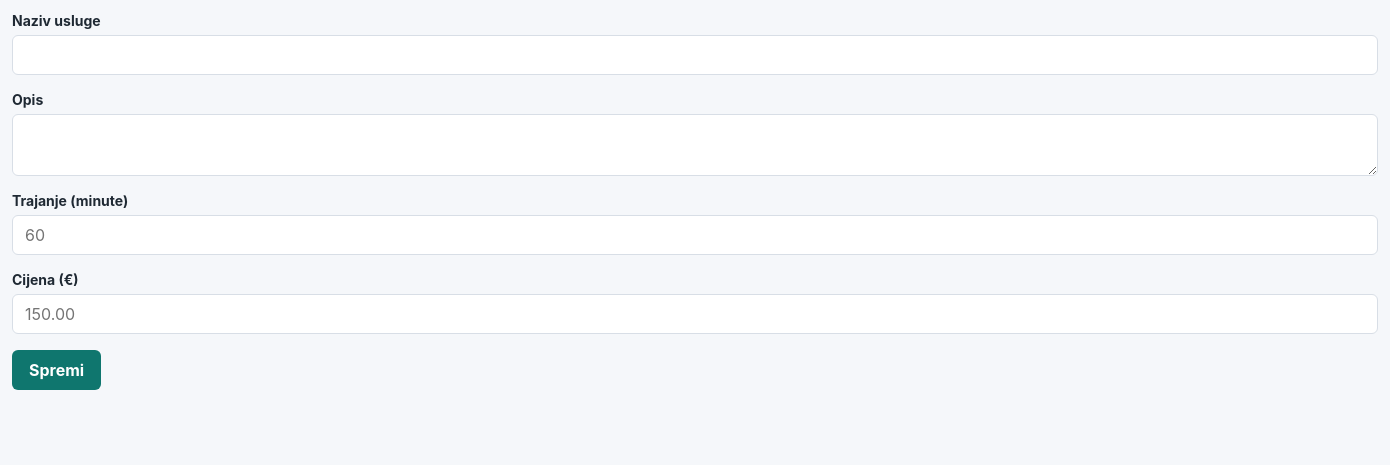
it: ServiceForm › rejects non-positive duration with validation error
Type "Servis" into the field labelled "Naziv usluge". click: x=695, y=55
box: [12, 35, 1378, 75]
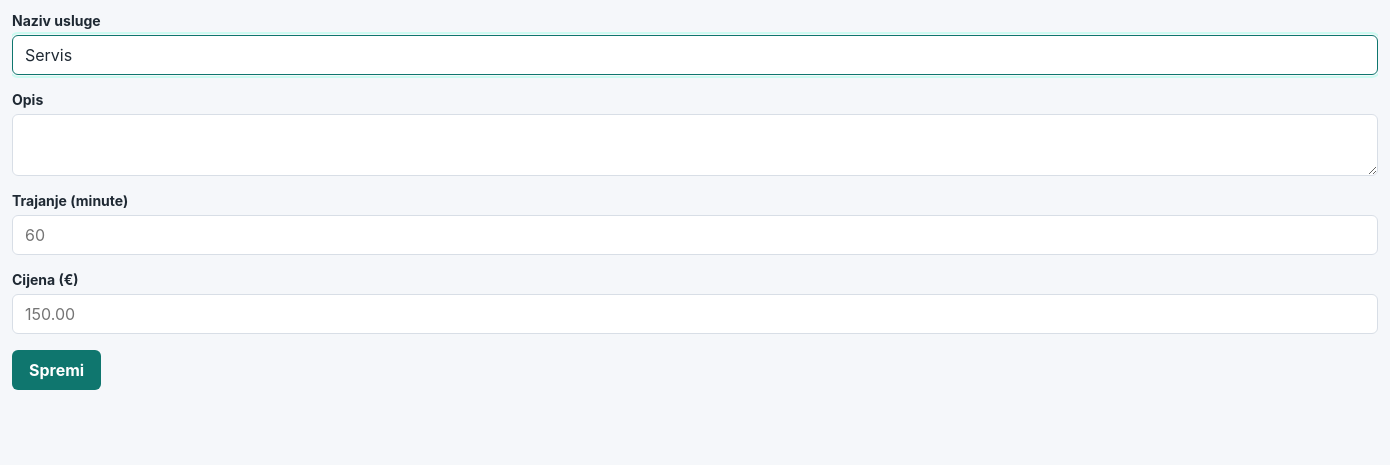
Type "0" into the number field labelled "Trajanje (minute)". click: x=695, y=235
box: [12, 215, 1378, 255]
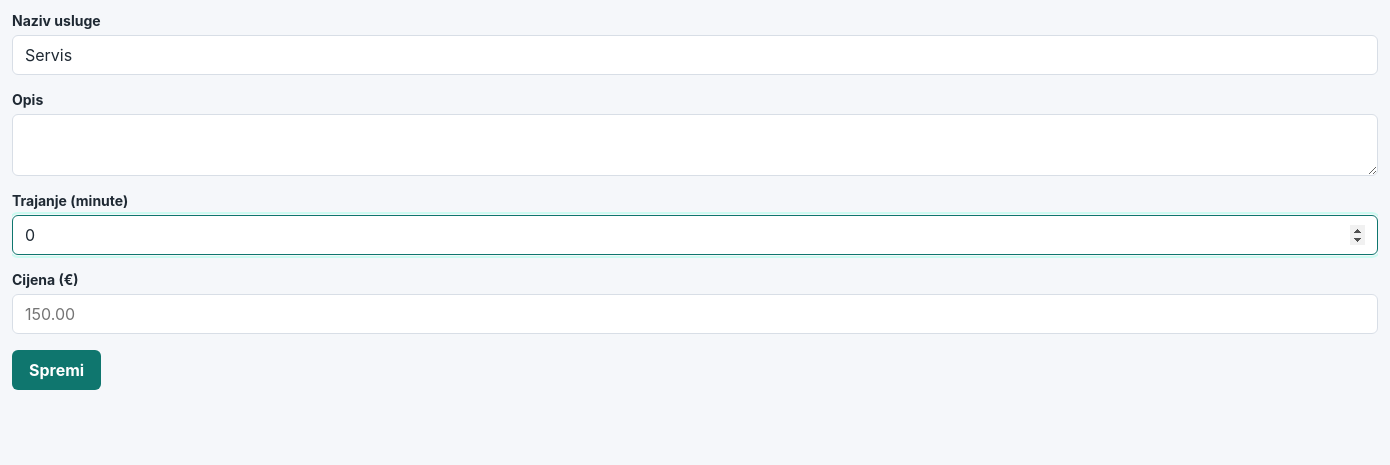
Type "100" into the number field labelled "Cijena (€)". click: x=695, y=314
box: [12, 294, 1378, 334]
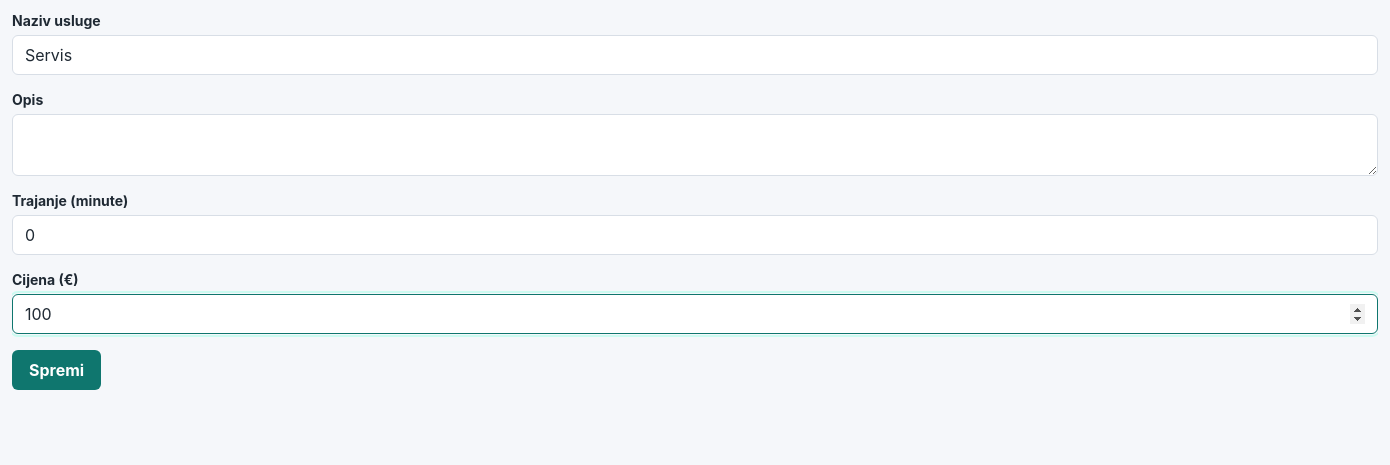
Submit the form
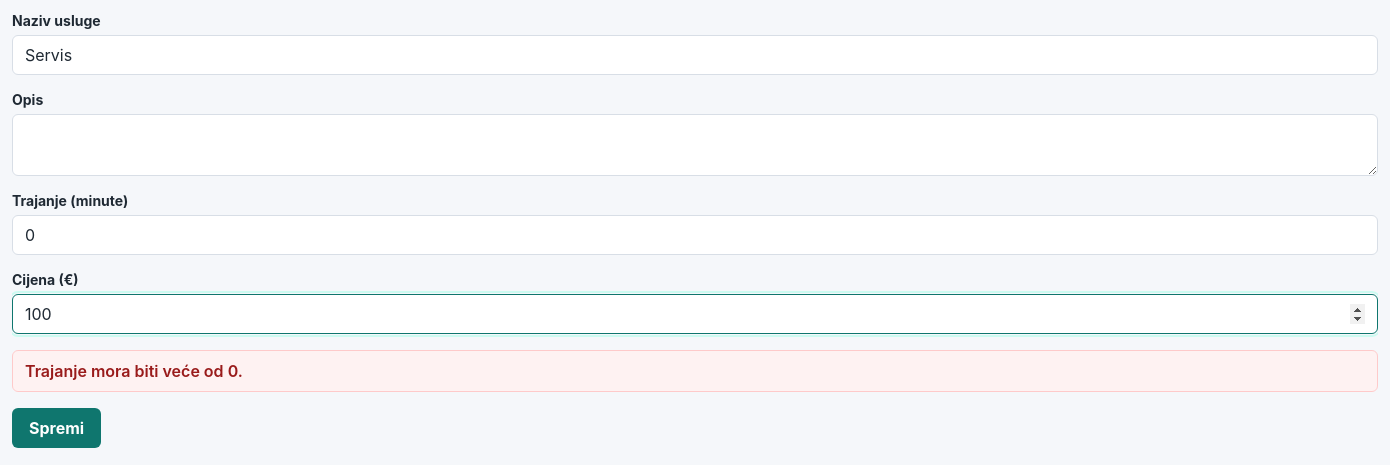
Now the text "Trajanje mora biti veće od 0." is shown, box [12, 350, 1378, 392]
